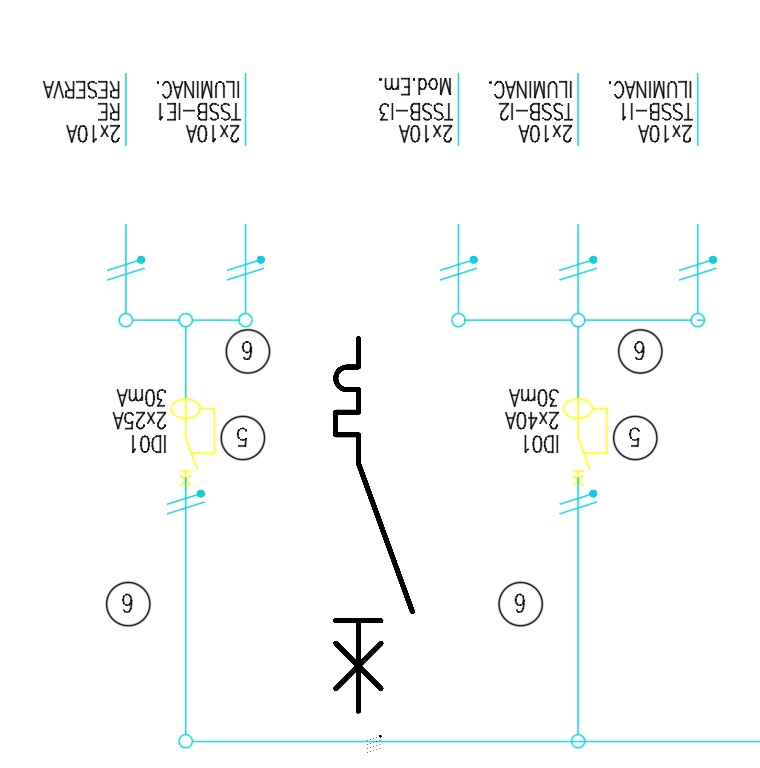interruptor_termomagnetico: (326, 329, 422, 720)
